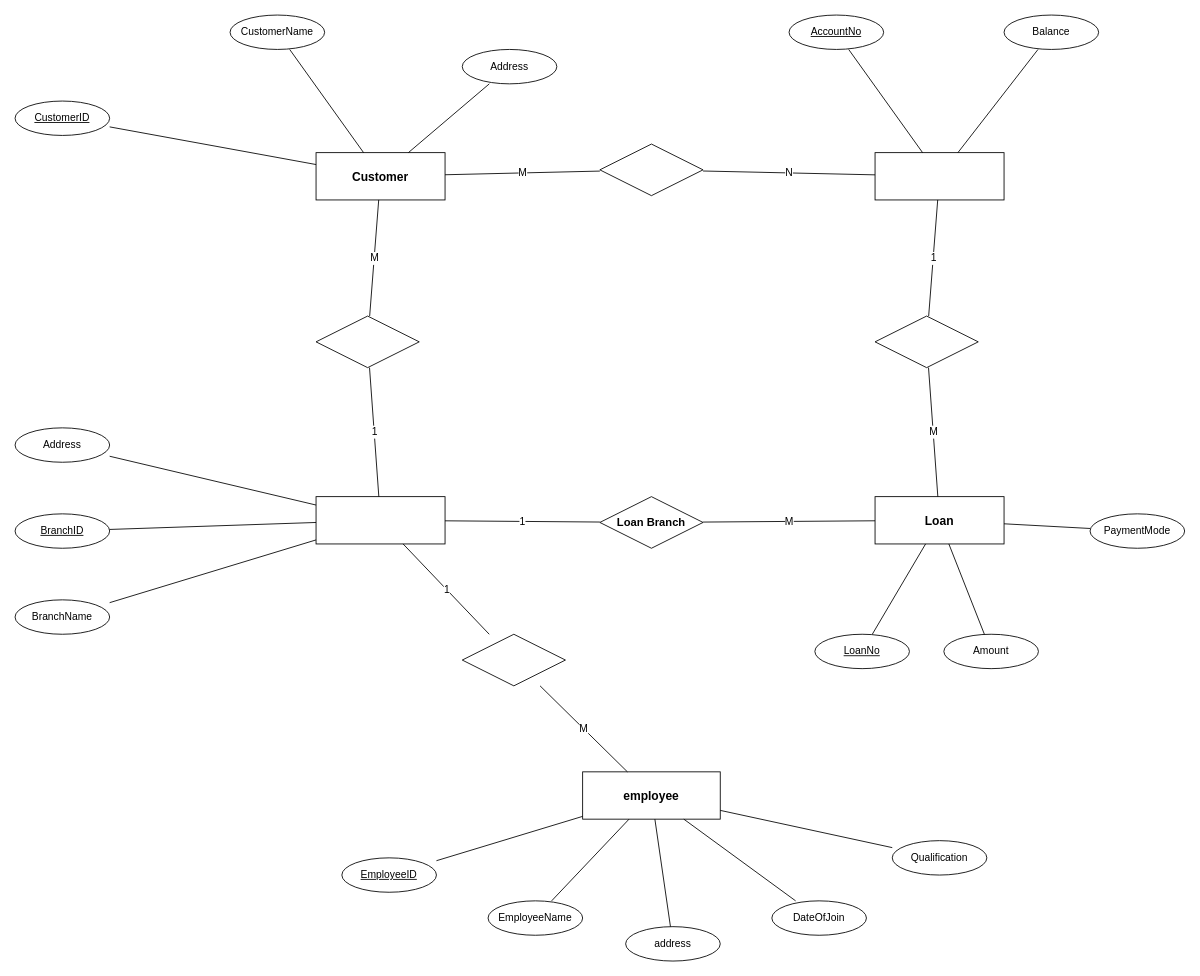
Some shapes in this 1200 by 976 pixel diagram are drawn without their labels. The box of each missing label's shape, as (x1, y1, x2, y2) in pixels:
Account: (874, 152, 1004, 200)
Belongs to: (315, 315, 419, 368)
Borrower: (874, 315, 978, 368)
Branch: (315, 496, 445, 544)
Depositor: (599, 143, 703, 196)
Has: (461, 633, 565, 686)
